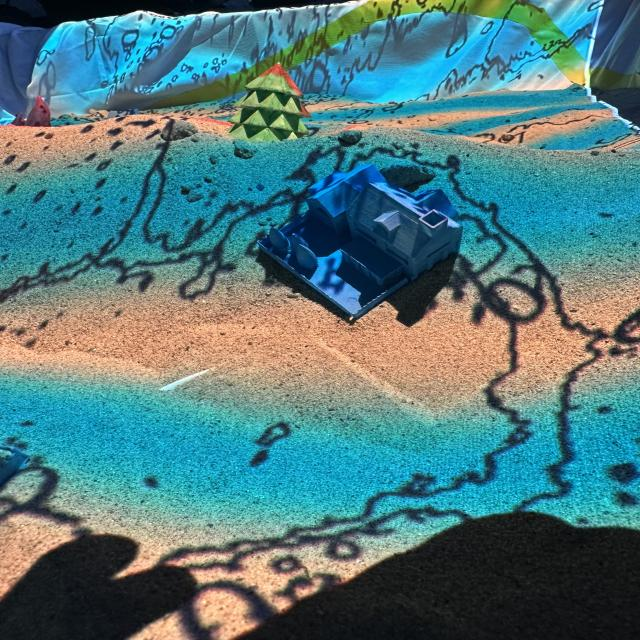house: (256, 163, 463, 323)
tree: (227, 61, 312, 142)
